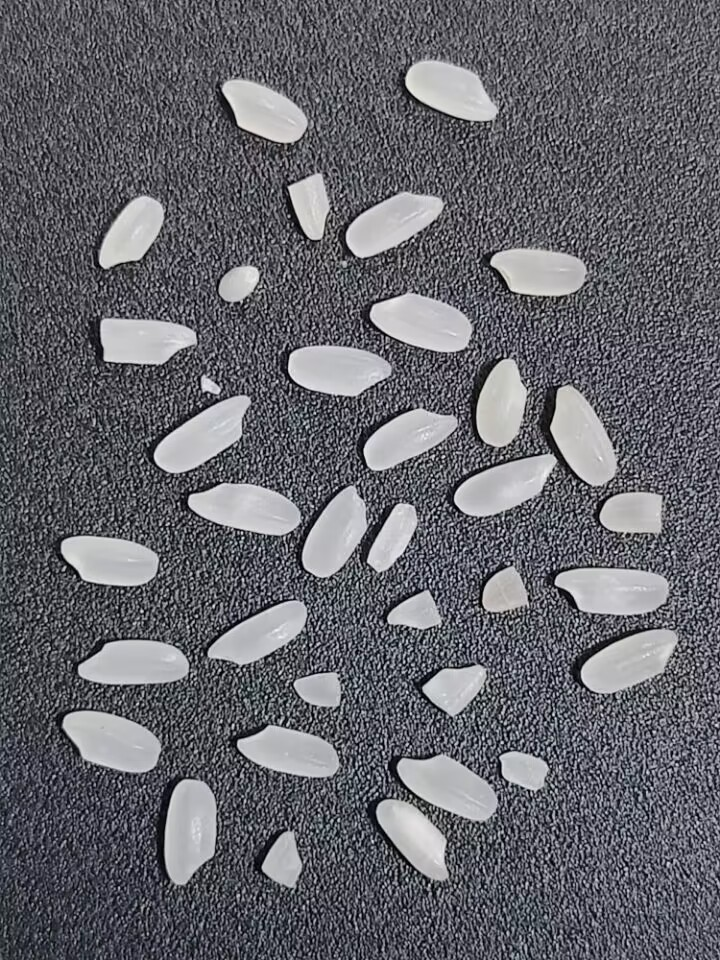broken: (361, 494, 425, 575), (98, 317, 199, 366), (281, 169, 334, 244), (419, 662, 487, 718), (598, 490, 668, 536), (257, 828, 306, 892), (477, 564, 530, 615), (210, 258, 262, 306), (385, 590, 443, 631), (499, 750, 551, 794), (292, 668, 343, 709)
rice: (151, 393, 254, 475), (391, 750, 503, 825), (369, 798, 456, 890), (203, 596, 310, 669), (549, 381, 620, 488), (450, 449, 560, 518), (358, 404, 463, 473), (577, 628, 681, 697), (401, 55, 502, 126), (300, 483, 373, 580), (343, 190, 443, 260), (282, 341, 402, 399), (59, 710, 164, 775), (214, 75, 311, 144), (184, 482, 304, 537), (368, 291, 471, 354), (234, 722, 342, 781), (554, 566, 671, 619), (471, 356, 536, 451), (162, 775, 217, 886), (55, 532, 162, 587), (75, 638, 192, 687), (96, 194, 164, 273), (485, 247, 588, 298)
